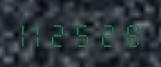eight: (123, 20, 143, 47)
five: (81, 20, 101, 47)
one: (17, 20, 37, 47), (38, 20, 58, 47)
two: (60, 20, 80, 47), (102, 20, 122, 47)
